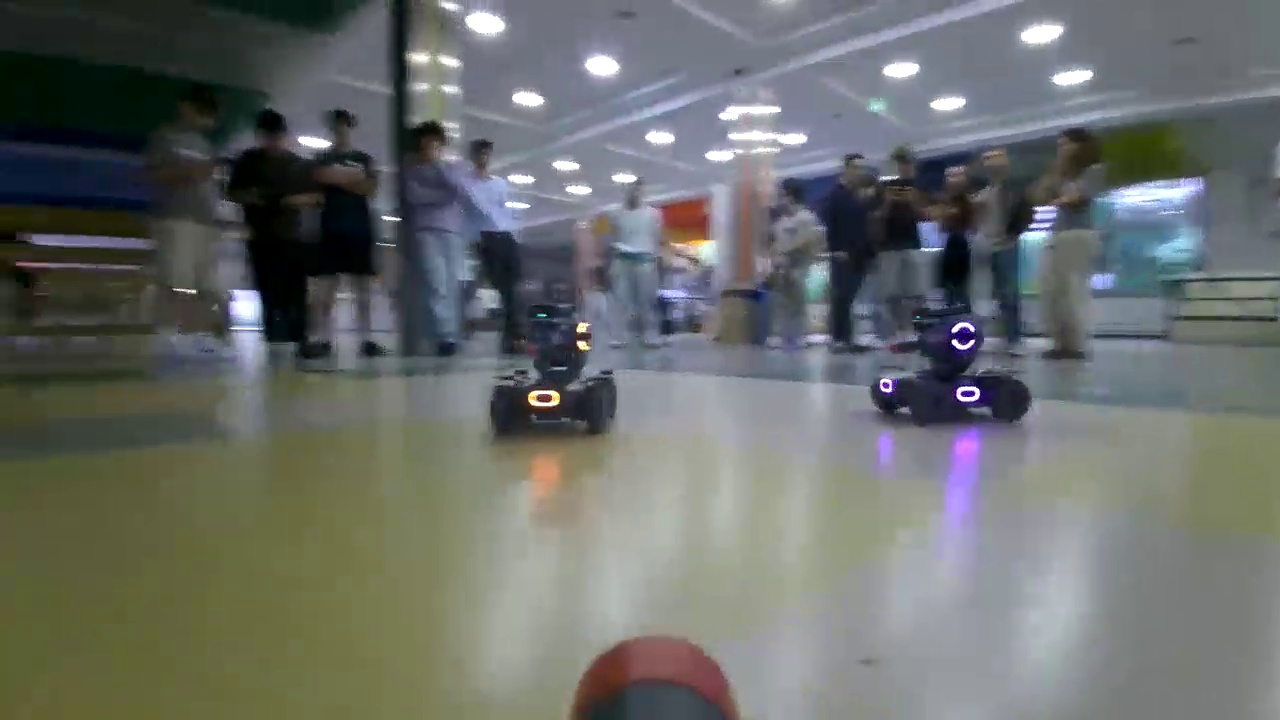robot: (494, 302, 624, 434), (870, 316, 1034, 420)
